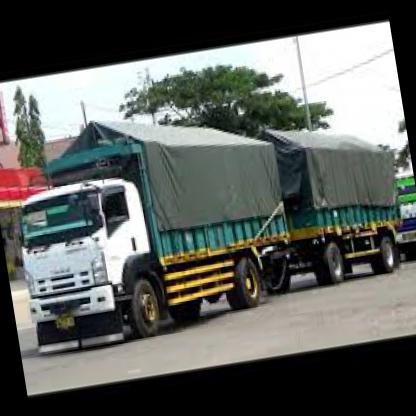truck: (10, 173, 169, 362)
